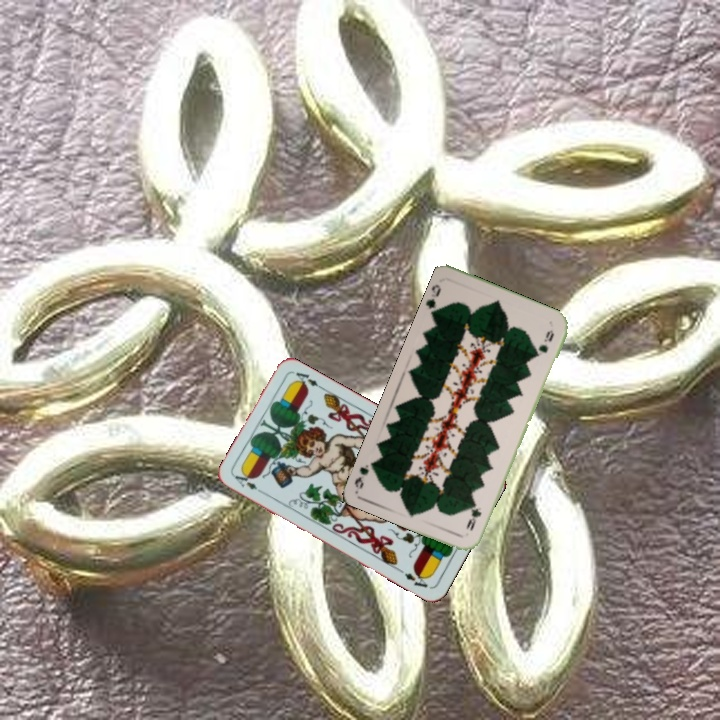EA: (230, 471, 268, 497)
G9: (423, 280, 444, 318), (462, 500, 484, 534)
